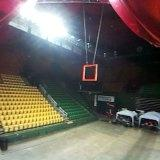Orange_Square_GShape: (82, 64, 98, 81)
